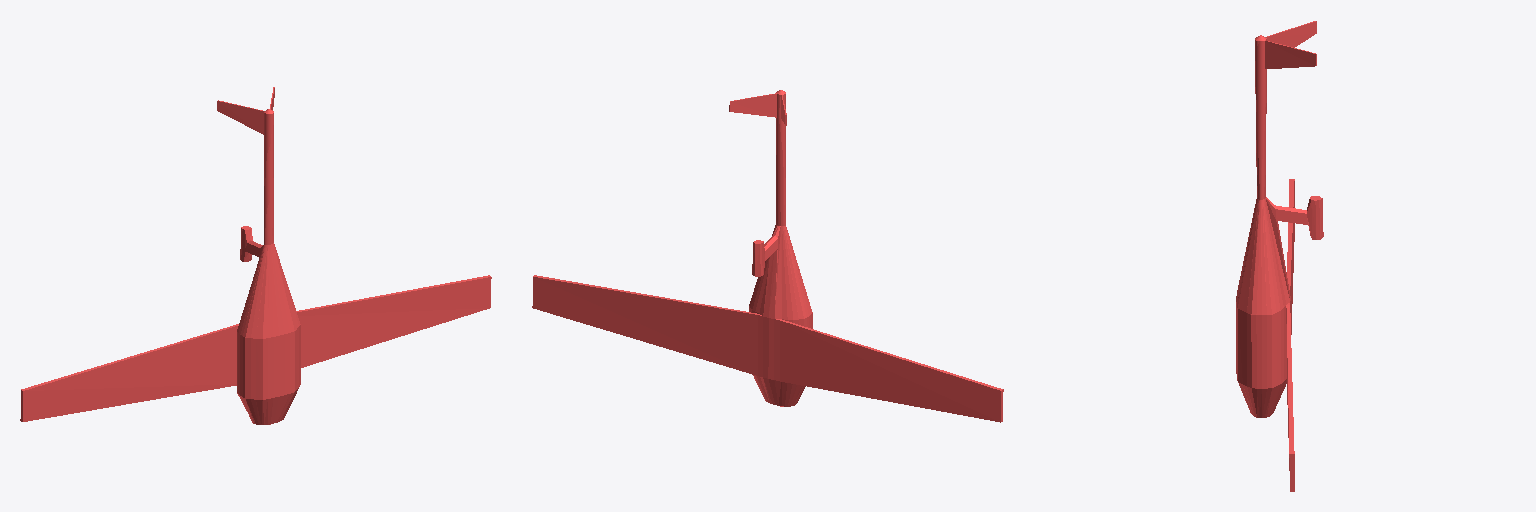
The robot description file, URDF, robot "drone":
<?xml version="1.0" ?>
<robot name="drone">
  <link name="baseLink">
    <visual>
      <origin rpy="0 0 0" xyz="0 0 0"/>
      <geometry>
        <mesh filename="zipline_drone.obj" scale="1 1 1"/>
      </geometry>
       <material name="red">
        <color rgba="1 0.4 0.4 1"/>
      </material>
    </visual>
    <collision>
      <origin rpy="0 0 0" xyz="0 0 0"/>
      <geometry>
	 	<mesh filename="zipline_drone.obj" scale="1 1 1"/>
      </geometry>
    </collision>
  </link>
</robot>

--- Render facts (derived) ---
The picture shows the robot from 3 angles, left to right: view 1: azimuth 30°, elevation 25°; view 2: azimuth 150°, elevation 25°; view 3: azimuth 270°, elevation 25°; orthographic projection.
Model drone with 1 links and 0 joints (none), rooted at baseLink, posed every joint at zero.
Links seen in each view (by area): view 1: baseLink; view 2: baseLink; view 3: baseLink.
Link boxes in pixels (x1,y1,x2,y2): baseLink: [20, 87, 491, 424]; baseLink: [532, 90, 1003, 422]; baseLink: [1236, 21, 1323, 491].
Size in the robot's own frame: 6.85 by 0.9188 by 4.42 metres.
1 mesh visuals loaded from 1 distinct referenced files (1 OBJ).